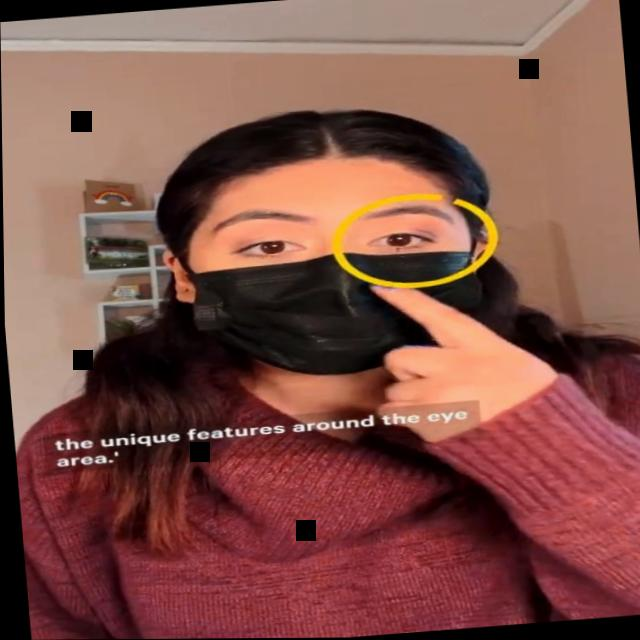Mask: (147, 136, 507, 394)
